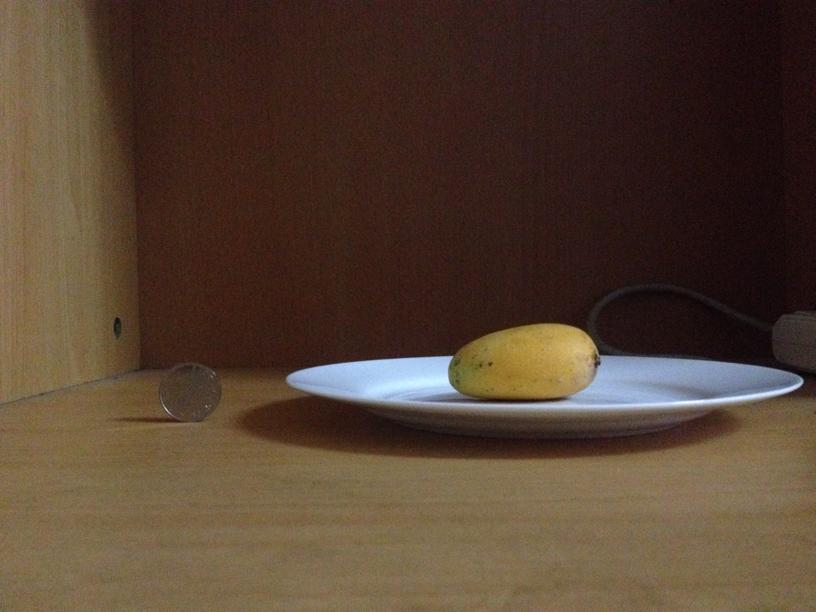coin: (153, 363, 221, 421)
mango: (445, 318, 596, 398)
